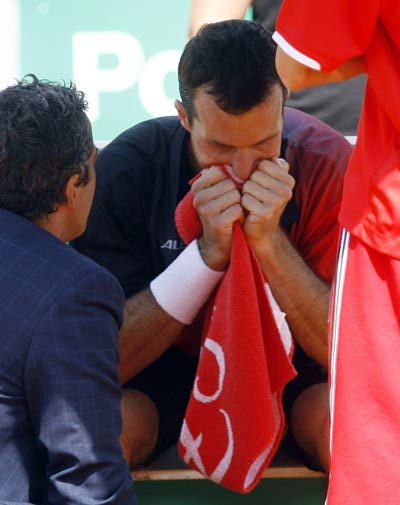face: (189, 87, 283, 196)
